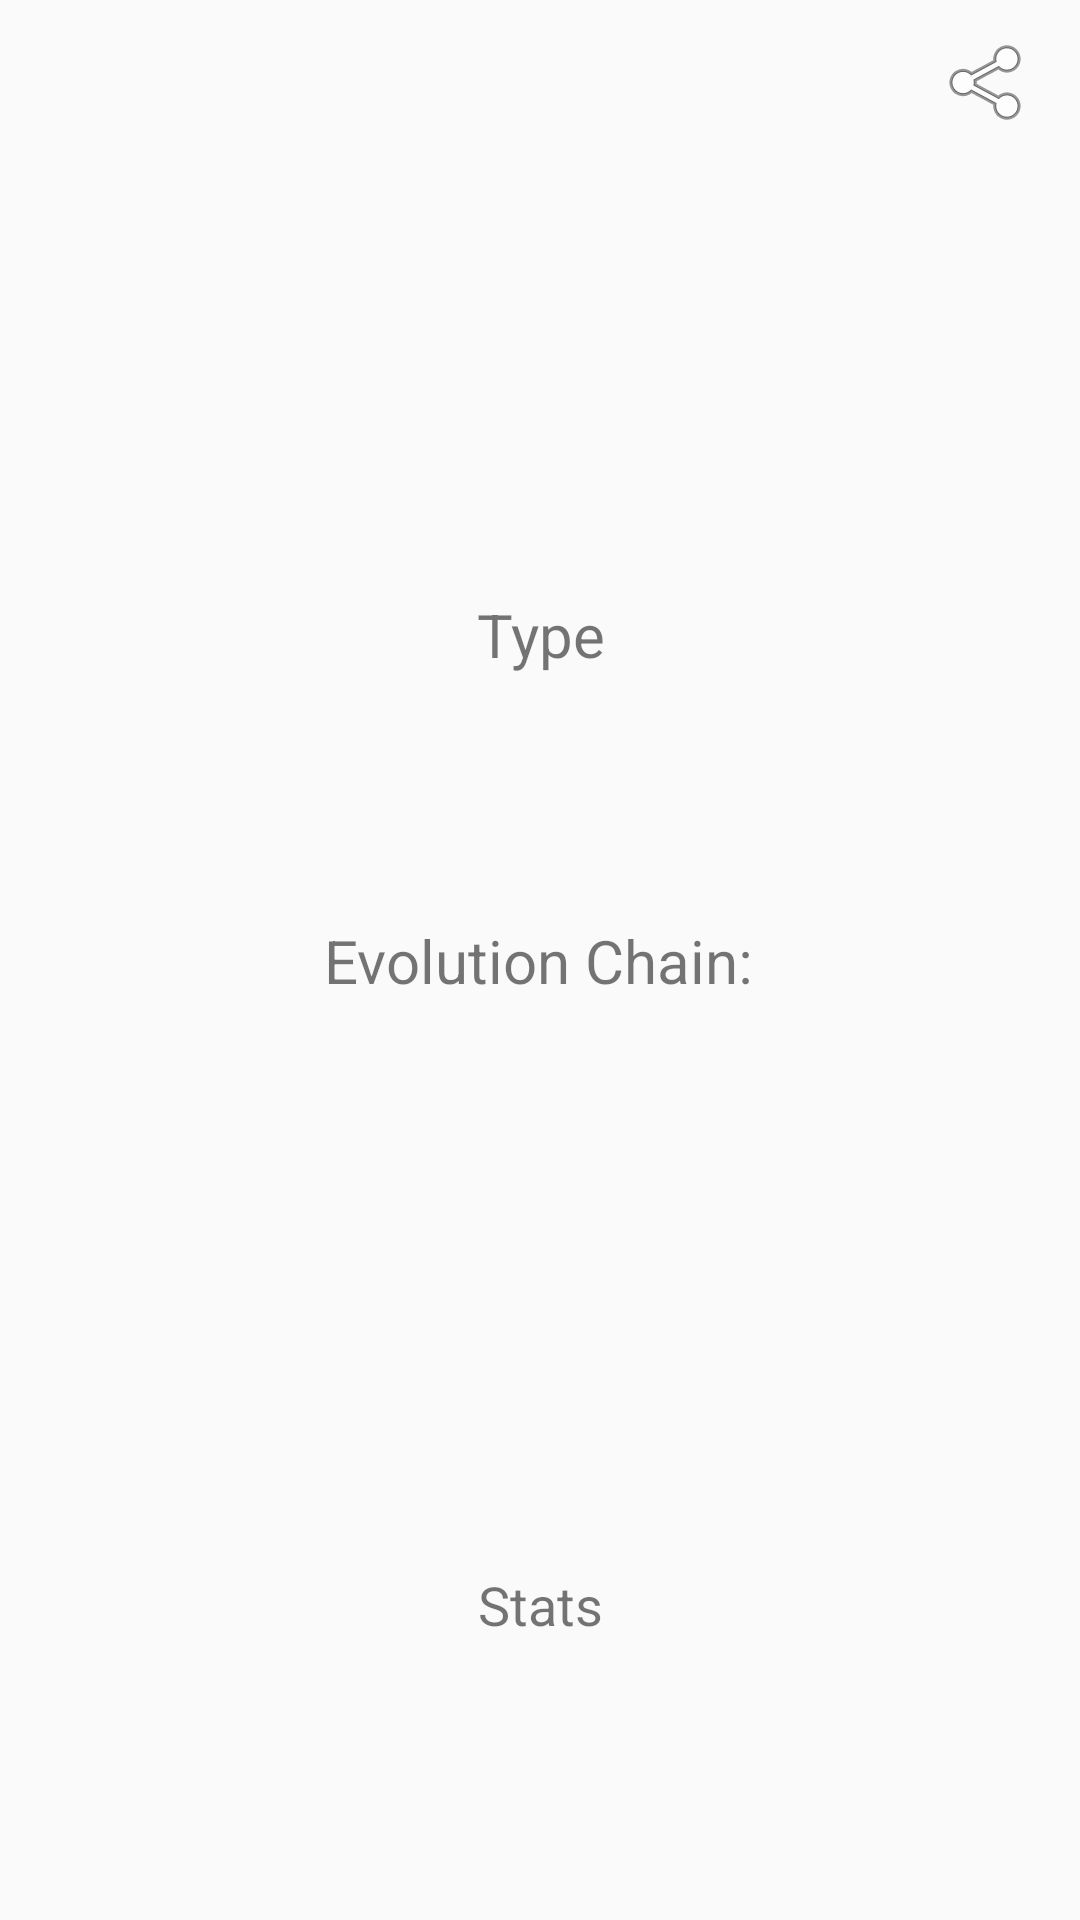

Named icons in this screenshot (1080px×1920px) and their bounding boxes, Rect(x1, y1, x2, y2):
Share: Rect(949, 45, 1021, 120)
